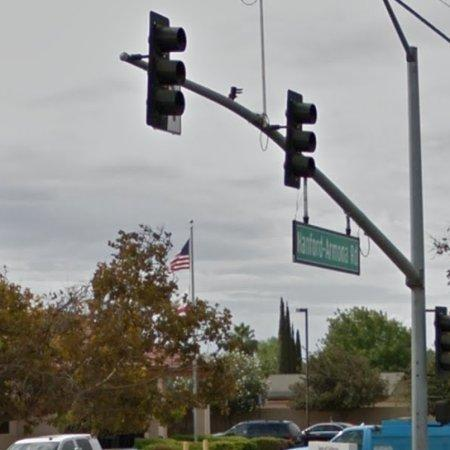traffic lights: (285, 90, 318, 189)
